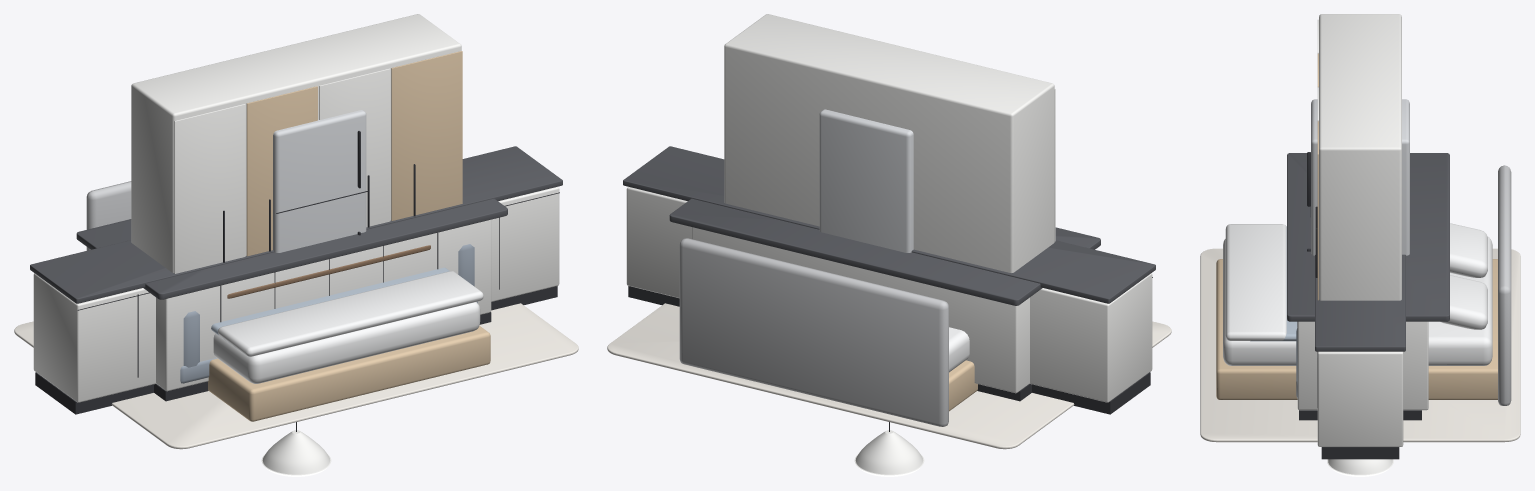
File: Furniture.fbx
3 views of the same model, side by side, from view 1: azimuth 30°, elevation 25°; view 2: azimuth 150°, elevation 25°; view 3: azimuth 270°, elevation 25° (orthographic). The views are drawn at different scales.
Parts seen in each view (by area): view 1: F_Wardrobe, F_Counter, F_Bed, F_Island, F_Rug, F_Fridge, F_Pendant, F_Sofa, F_DiningTable; view 2: F_Wardrobe, F_Bed, F_Counter, F_Island, F_Fridge, F_Rug, F_Pendant; view 3: F_Bed, F_Wardrobe, F_Island, F_Counter, F_Rug, F_Fridge, F_Pendant.
Boxes of the visible parts, x1=… form: F_Wardrobe: x1=131, y1=14, x2=462, y2=273; F_Counter: x1=30, y1=146, x2=562, y2=414; F_Bed: x1=86, y1=181, x2=490, y2=421; F_Island: x1=76, y1=198, x2=507, y2=401; F_Rug: x1=14, y1=303, x2=578, y2=449; F_Fridge: x1=273, y1=110, x2=368, y2=252; F_Pendant: x1=261, y1=422, x2=331, y2=475; F_Sofa: x1=180, y1=244, x2=477, y2=383; F_DiningTable: x1=227, y1=245, x2=430, y2=298; F_Wardrobe: x1=724, y1=14, x2=1055, y2=272; F_Bed: x1=679, y1=238, x2=977, y2=426; F_Counter: x1=623, y1=146, x2=1155, y2=414; F_Island: x1=669, y1=198, x2=1100, y2=401; F_Fridge: x1=819, y1=109, x2=913, y2=252; F_Rug: x1=607, y1=303, x2=1171, y2=449; F_Pendant: x1=854, y1=422, x2=924, y2=475; F_Bed: x1=1216, y1=165, x2=1511, y2=405; F_Wardrobe: x1=1315, y1=14, x2=1401, y2=300; F_Island: x1=1287, y1=153, x2=1449, y2=420; F_Counter: x1=1315, y1=254, x2=1405, y2=459; F_Rug: x1=1200, y1=248, x2=1520, y2=442; F_Fridge: x1=1307, y1=99, x2=1409, y2=255; F_Pendant: x1=1327, y1=459, x2=1393, y2=475.
Bounding box in the file's own units: 4.04 × 3.17 × 2.4.
